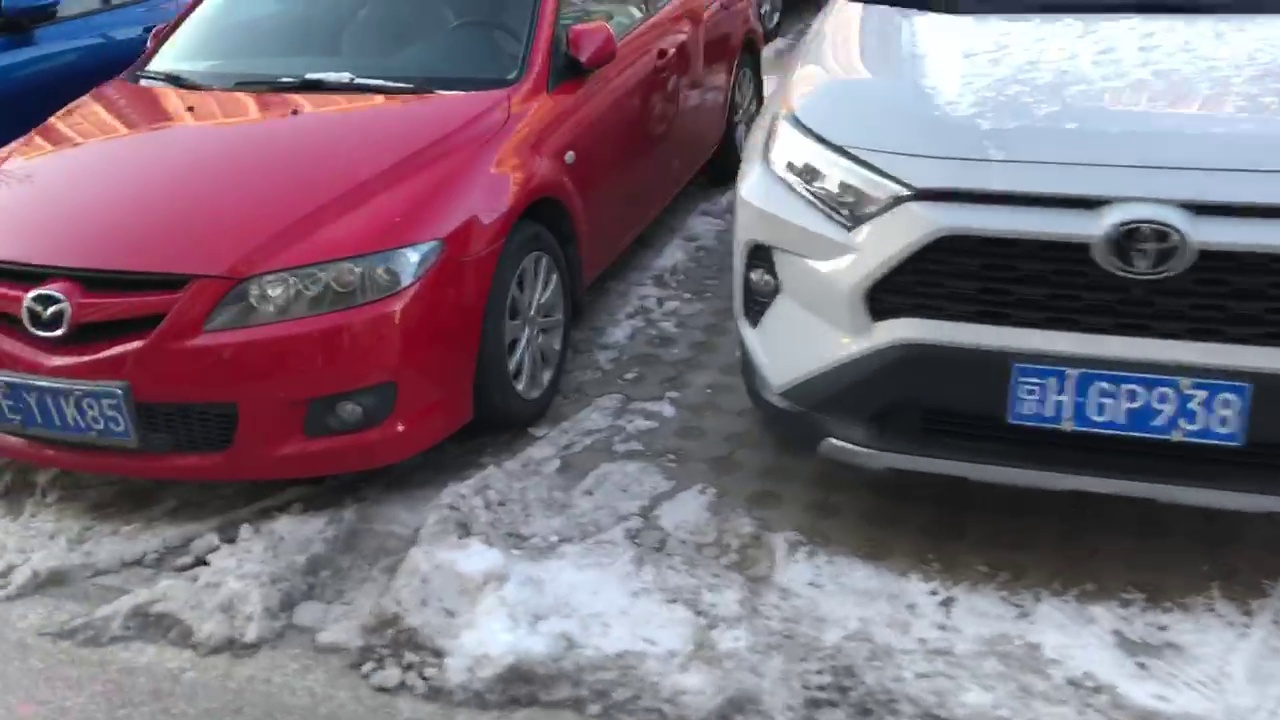plate: (1009, 368, 1259, 440), (1, 384, 129, 436)
